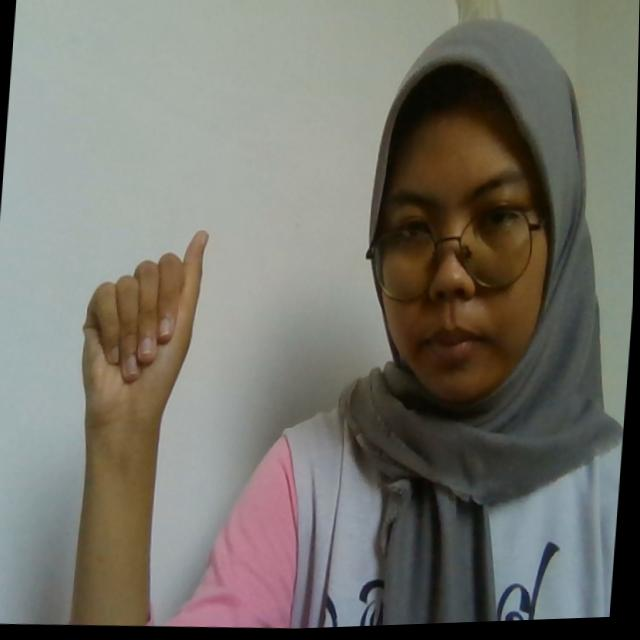A: (78, 223, 213, 426)
